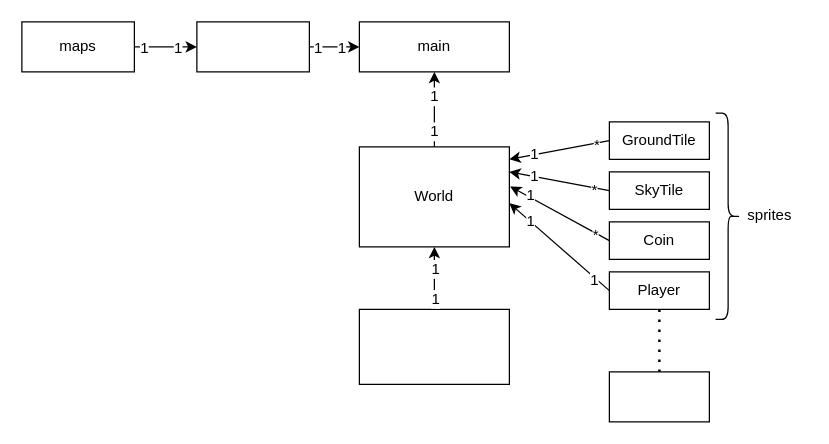
Image size: 829x444. Some labels were removed from this diagram. Each missing label, with the box of its shape:
Camera: (358, 308, 509, 384)
Level: (196, 21, 309, 72)
player_input: (608, 371, 709, 422)
